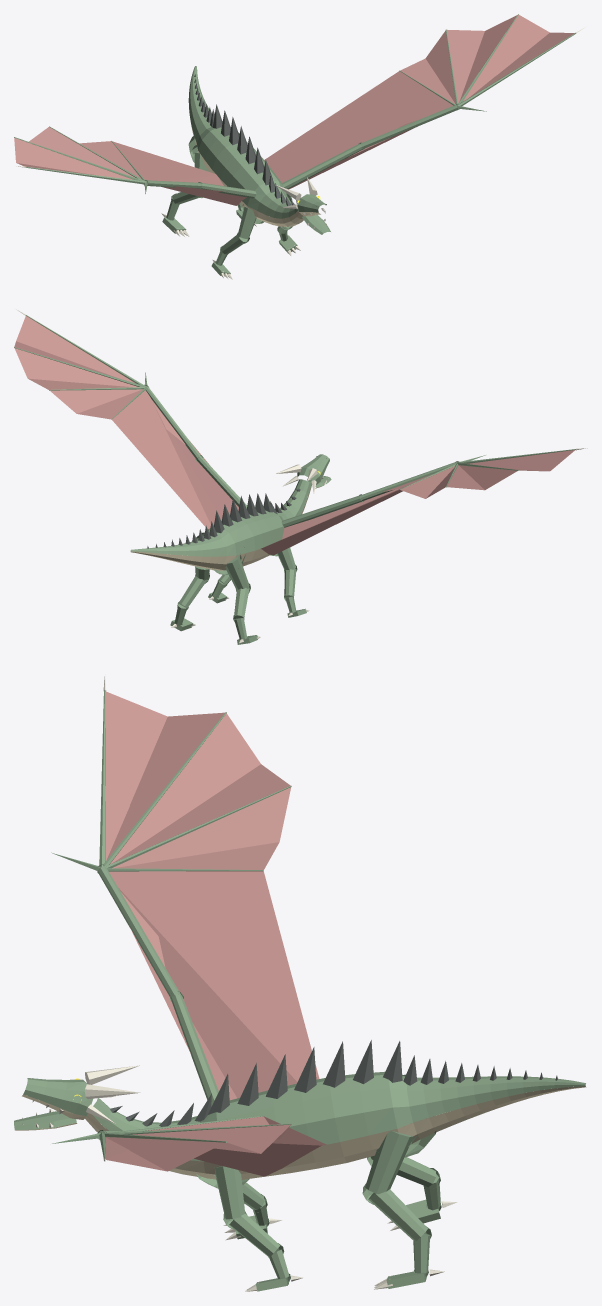
The model's file is dragons-and-wyverns-western-dragon-wings-spread-8d633362.glb.
3 views of the same model, one above another, from view 1: azimuth 30°, elevation 25°; view 2: azimuth 150°, elevation 25°; view 3: azimuth 270°, elevation 25° (orthographic). The views are drawn at different scales.
Parts seen in each view (by area): view 1: western-dragon-wings-spread; view 2: western-dragon-wings-spread; view 3: western-dragon-wings-spread.
Boxes of the visible parts, bbox=[...] form: western-dragon-wings-spread: bbox=[14, 14, 585, 279]; western-dragon-wings-spread: bbox=[14, 309, 587, 644]; western-dragon-wings-spread: bbox=[14, 674, 586, 1291].
Bounding box in the file's own units: 13.33 × 4.46 × 6.61.
